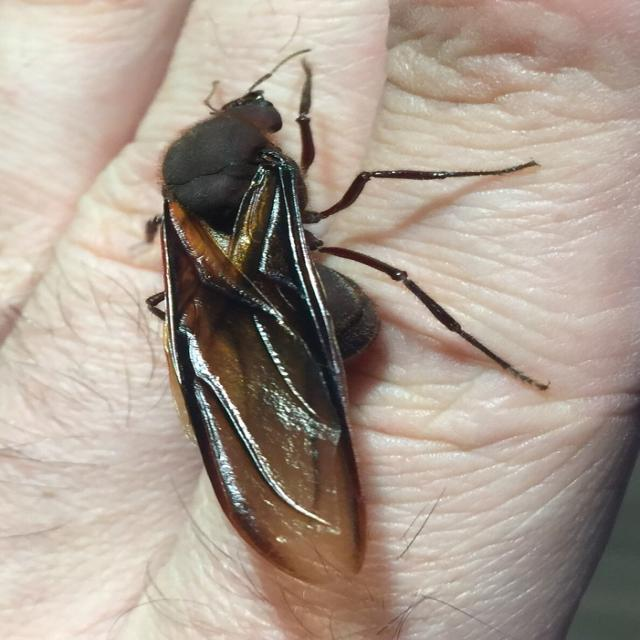Alive-Female-Alate: (126, 47, 552, 590)
